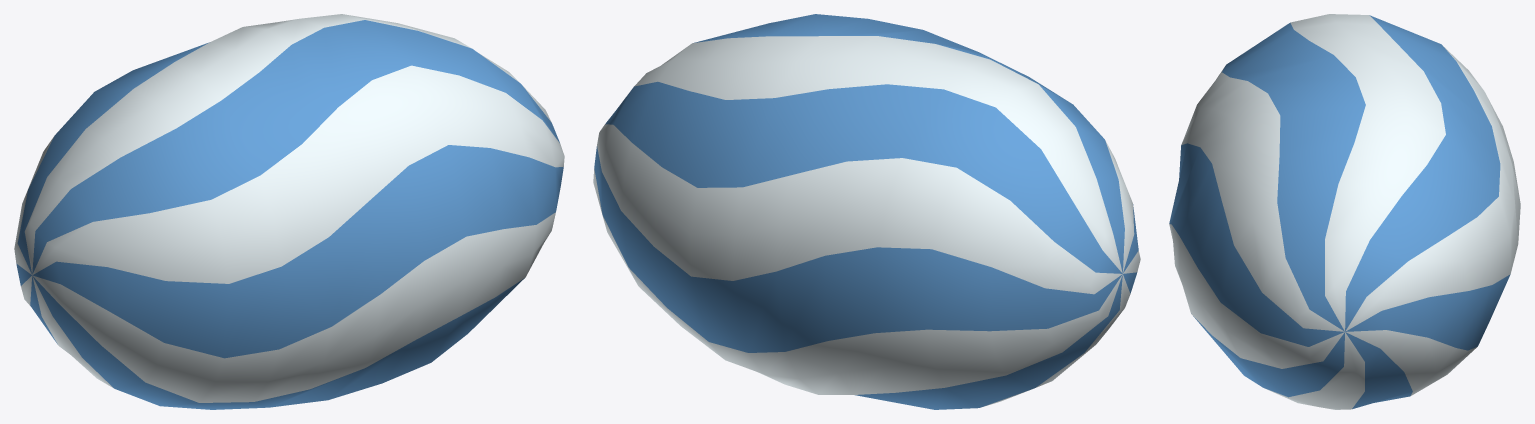
File: candy_assets14.fbx
The picture shows the model from 3 angles, left to right: view 1: azimuth 30°, elevation 25°; view 2: azimuth 150°, elevation 25°; view 3: azimuth 270°, elevation 25°; orthographic projection. The views are drawn at different scales.
Visible parts, largest first — view 1: candy_assets14; view 2: candy_assets14; view 3: candy_assets14.
Part boxes in pixels (box(x1,y1,x2,y2)): candy_assets14: box(14, 14, 564, 409); candy_assets14: box(593, 14, 1140, 409); candy_assets14: box(1169, 14, 1520, 409).
Bounding box in the file's own units: 441 × 284 × 284.
Materials: 1 (1 with a texture image).
